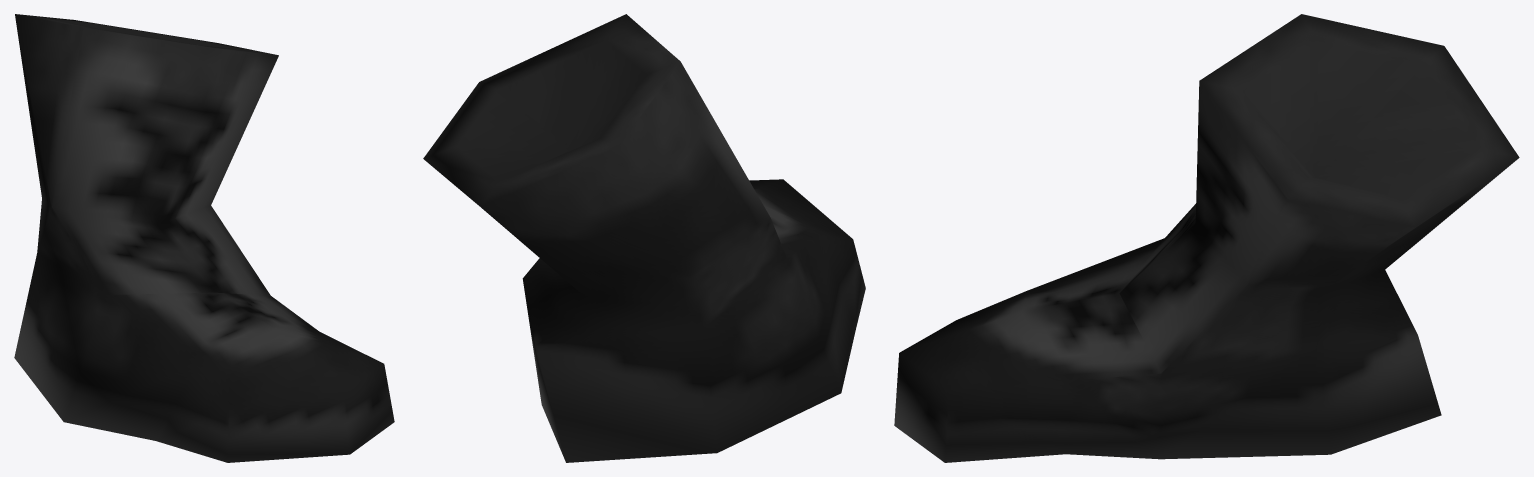
The model's file is trash_boot.fbx.
The picture shows the model from 3 angles, left to right: view 1: azimuth 30°, elevation 25°; view 2: azimuth 150°, elevation 25°; view 3: azimuth 270°, elevation 25°; orthographic projection. The views are drawn at different scales.
Visible parts, largest first — view 1: trash_boot; view 2: trash_boot; view 3: trash_boot.
Part boxes in pixels (left/top/right/bottom): trash_boot: left=14, top=14, right=394, bottom=462; trash_boot: left=423, top=14, right=865, bottom=462; trash_boot: left=894, top=14, right=1519, bottom=462.
Bounding box in the file's own units: 7.4 × 8.58 × 12.89.
